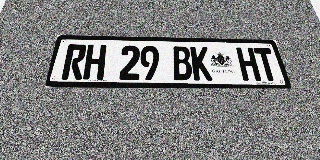2: (119, 45, 140, 80)
9: (140, 46, 160, 80)
B: (172, 46, 193, 80)
H: (236, 47, 261, 81), (83, 45, 107, 80)
K: (190, 47, 213, 80)
R: (61, 44, 87, 80)
T: (253, 48, 280, 81)
